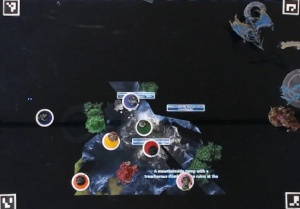green: (133, 117, 153, 136)
orange: (70, 171, 90, 191)
pink: (173, 172, 196, 192)
red: (142, 139, 161, 157)
violet: (119, 90, 142, 112), (35, 106, 54, 127)
yellow: (101, 131, 121, 150)
